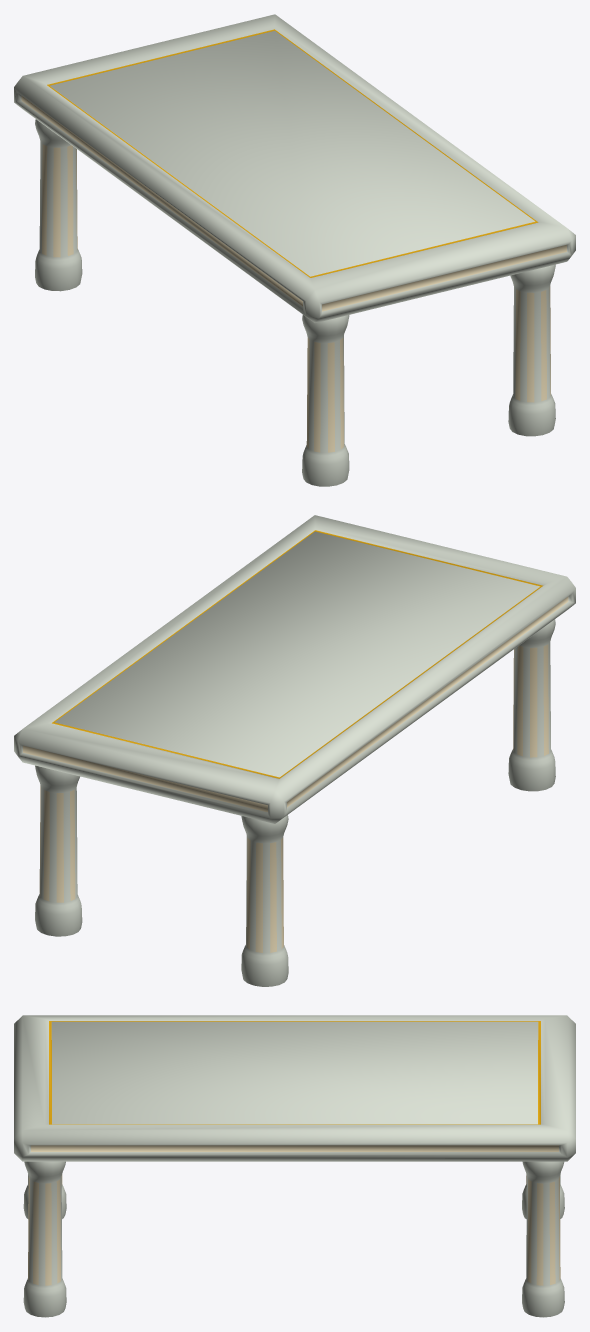
File: TableGreek.fbx
The picture shows the model from 3 angles, top to bottom: view 1: azimuth 30°, elevation 25°; view 2: azimuth 150°, elevation 25°; view 3: azimuth 270°, elevation 25°; orthographic projection. The views are drawn at different scales.
Parts seen in each view (by area): view 1: TableMarble; view 2: TableMarble; view 3: TableMarble.
Boxes of the visible parts, x1,y1,x2,y2 form: TableMarble: (14,14,575,486); TableMarble: (14,515,575,986); TableMarble: (14,1015,575,1317).
Size of the model in its own units: 250 by 179 by 484.
